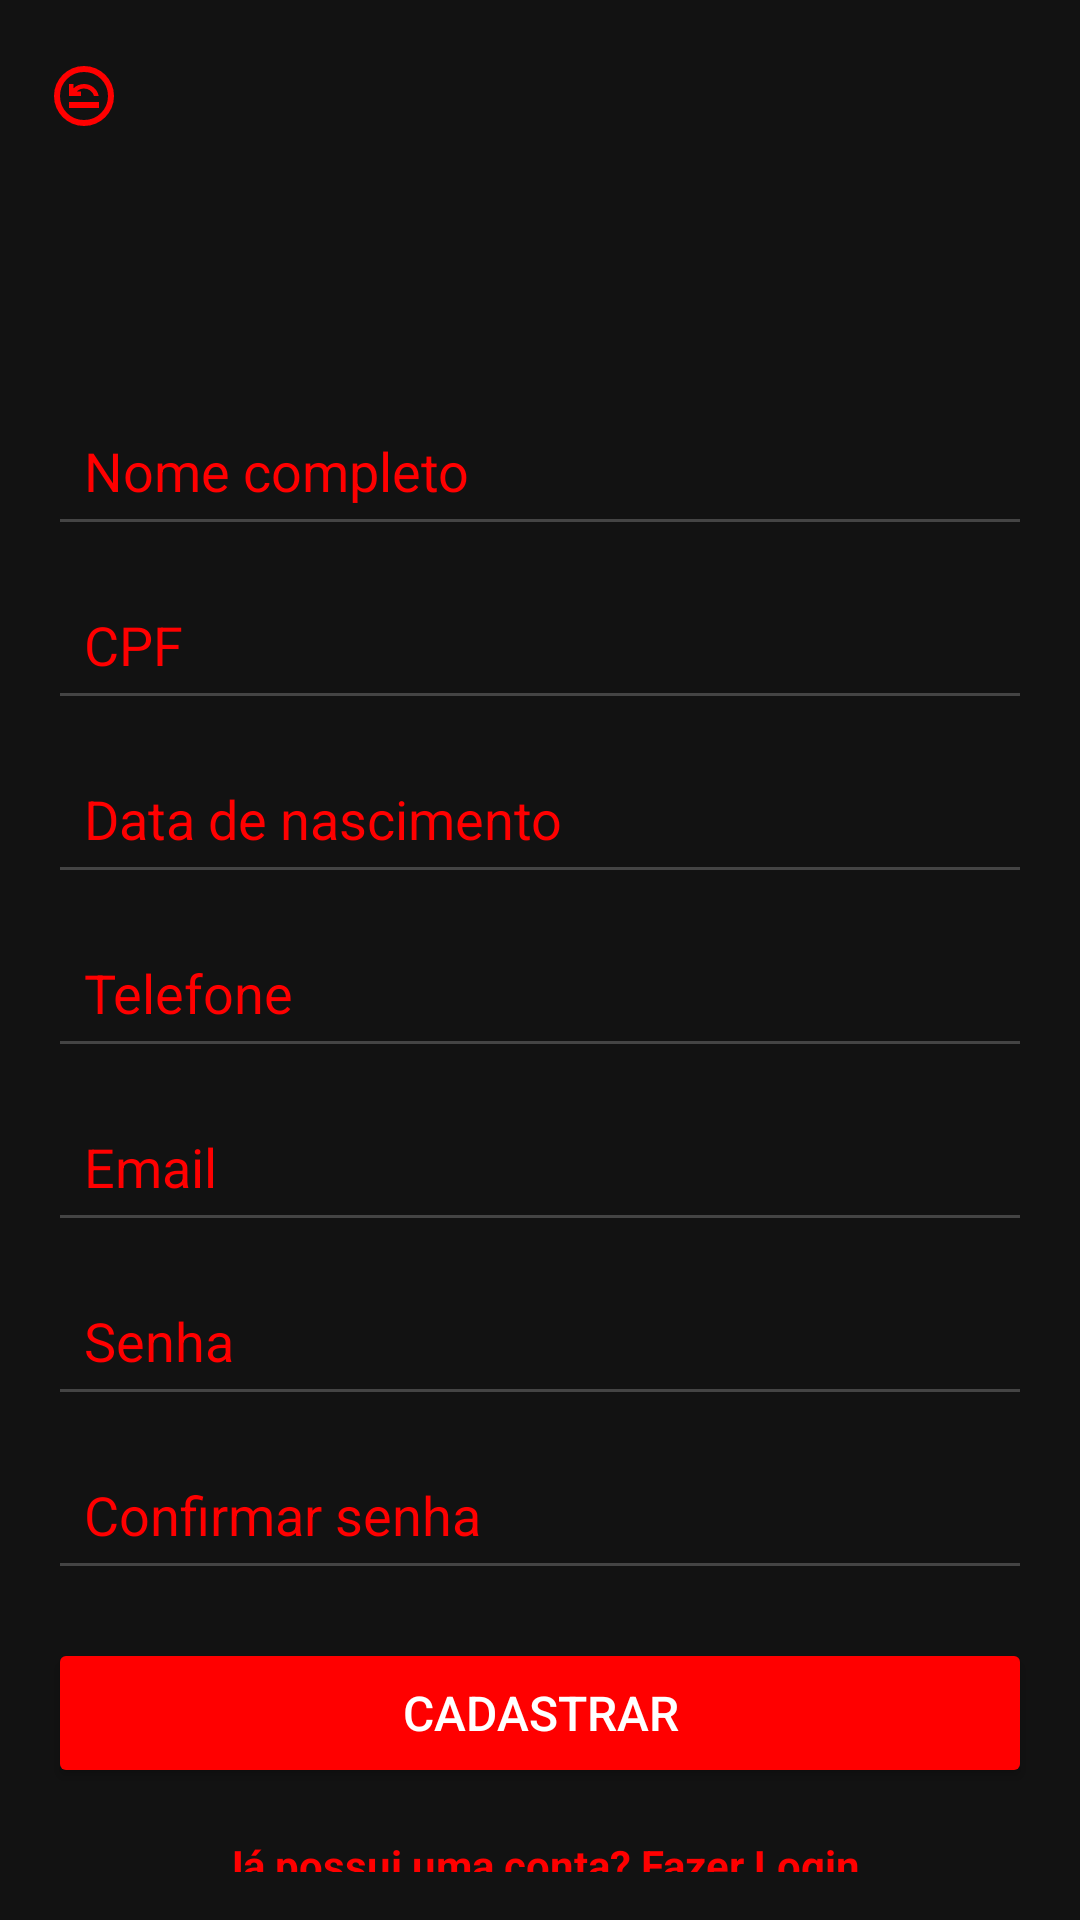

Named icons in this screenshot (1080 × 1920) and their centers, (x=x, y=y):
Voltar: (x=84, y=96)
